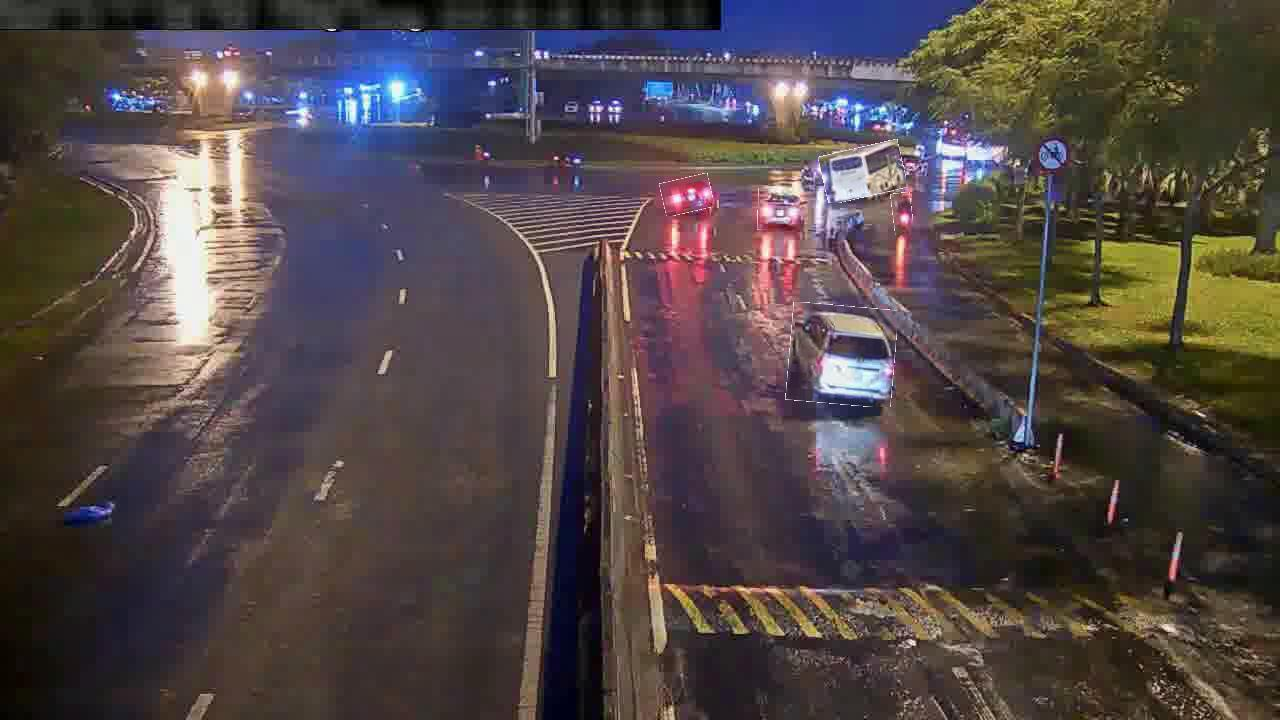14: (820, 143, 905, 200), (759, 187, 807, 229)
container: (787, 304, 896, 406), (758, 189, 807, 231), (661, 176, 713, 215)
motorbike: (892, 193, 913, 236)
